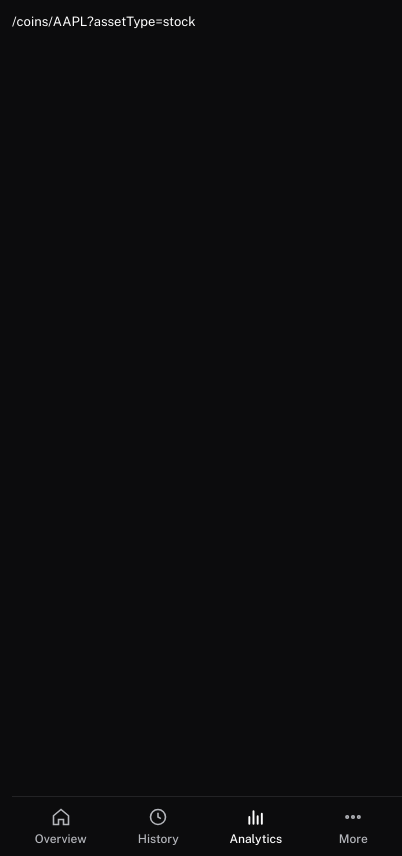
Test: mobile navigation › does not retain a stock detail query when returning to Analytics
Click the link "History" at {"x": 158, "y": 826}, box [138,807,179,846]
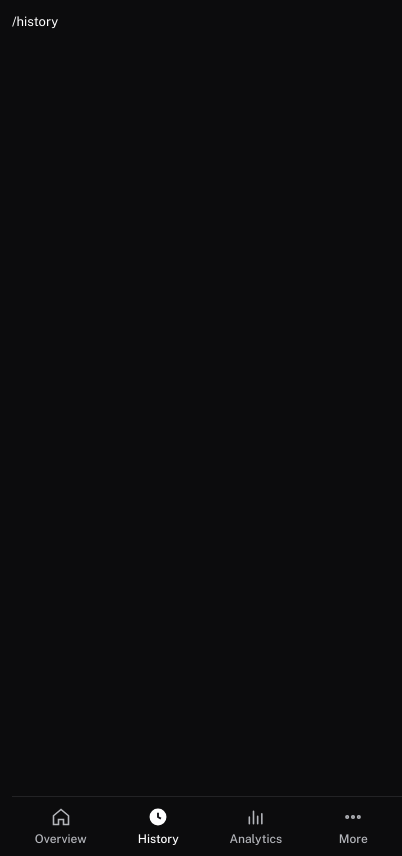
Click the link "Analytics" at {"x": 256, "y": 826}, box [229,807,282,846]
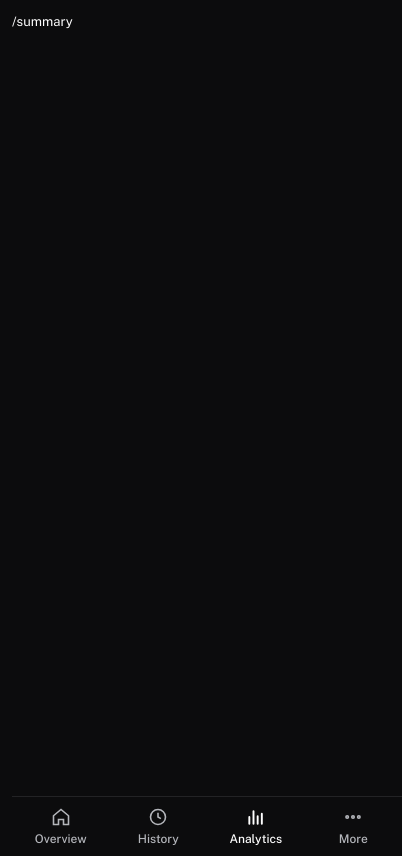
Expected: the text "/summary" is shown, [12,14,73,29]
